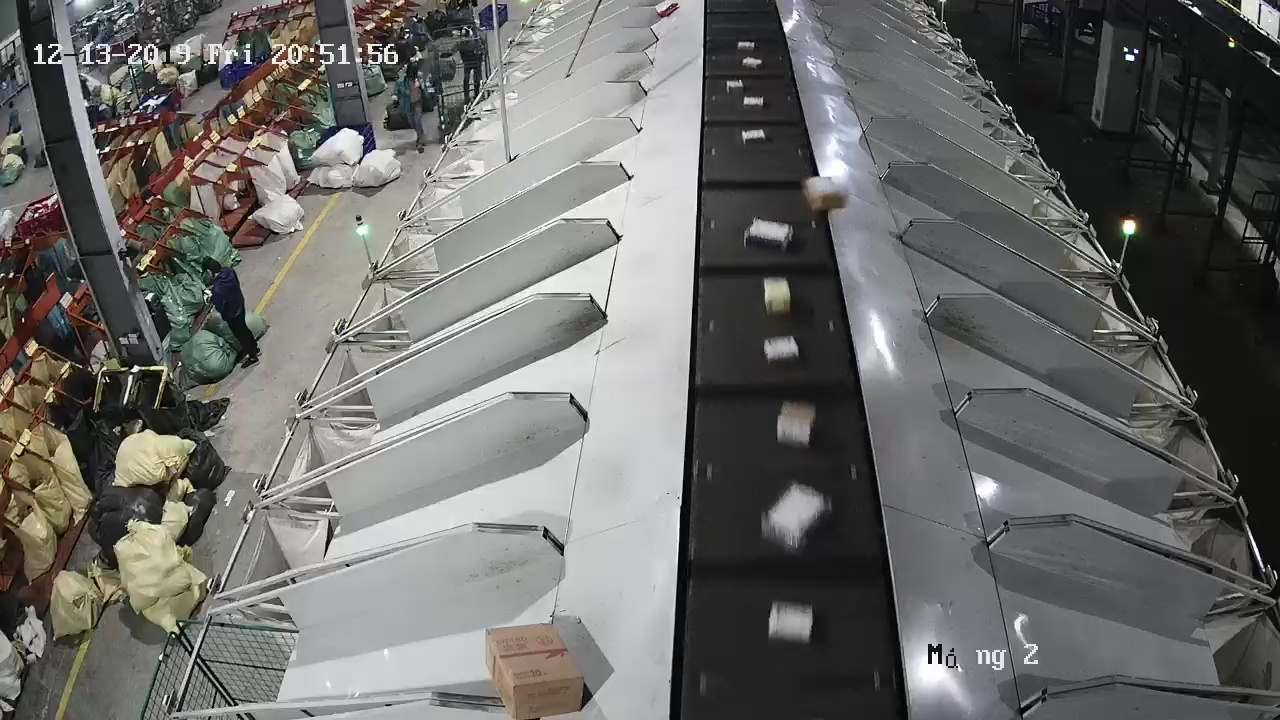parcel: (799, 175, 848, 214)
